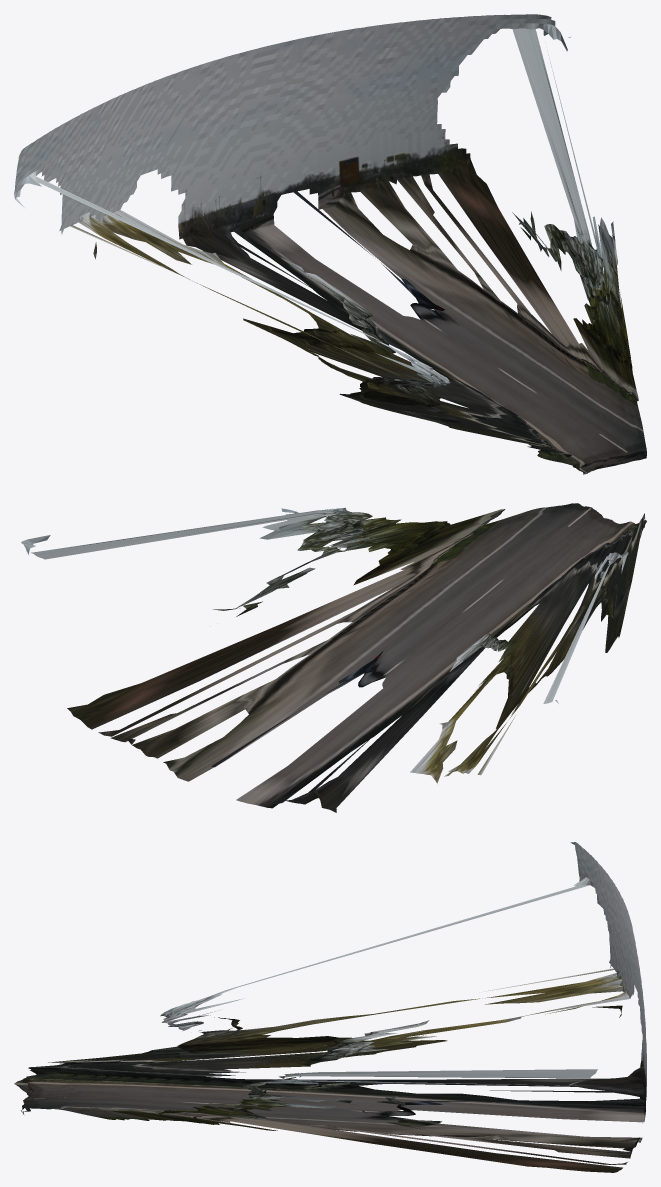
3 renders of one model, top to bottom at view 1: azimuth 30°, elevation 25°; view 2: azimuth 150°, elevation 25°; view 3: azimuth 270°, elevation 25°, orthographic. The views are drawn at different scales.
Visible parts, largest first — view 1: defaultobject; view 2: defaultobject; view 3: defaultobject.
Part boxes in pixels (x1,y1,x2,y2): defaultobject: (14, 14, 646, 474); defaultobject: (21, 503, 646, 812); defaultobject: (14, 842, 646, 1172).
Size of the model in its own units: 39.94 by 12.86 by 44.75.
1 material, 1 textured.
